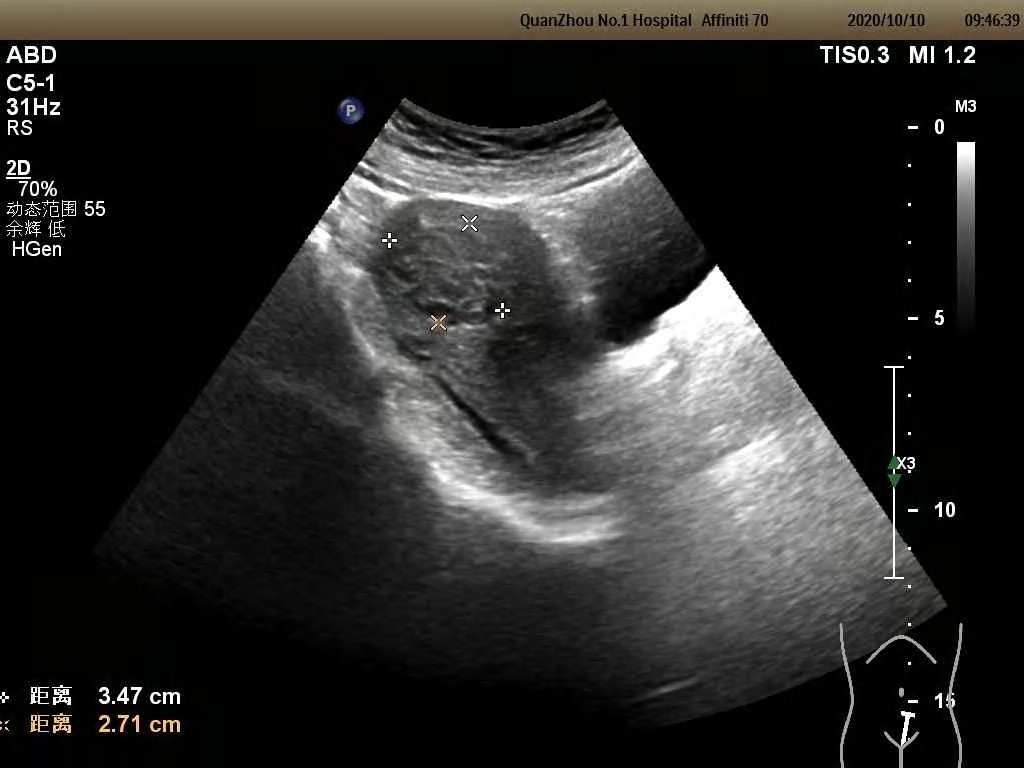肌瘤: (382, 216, 509, 328)
